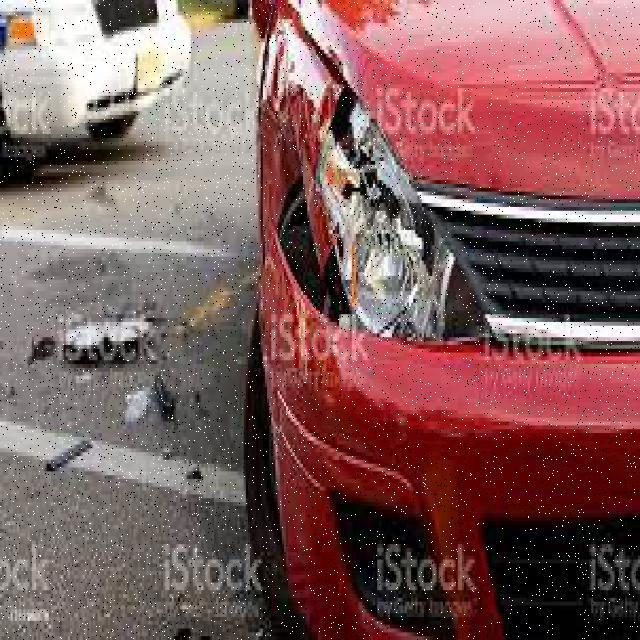Headlight-Damage: (261, 80, 456, 372)
